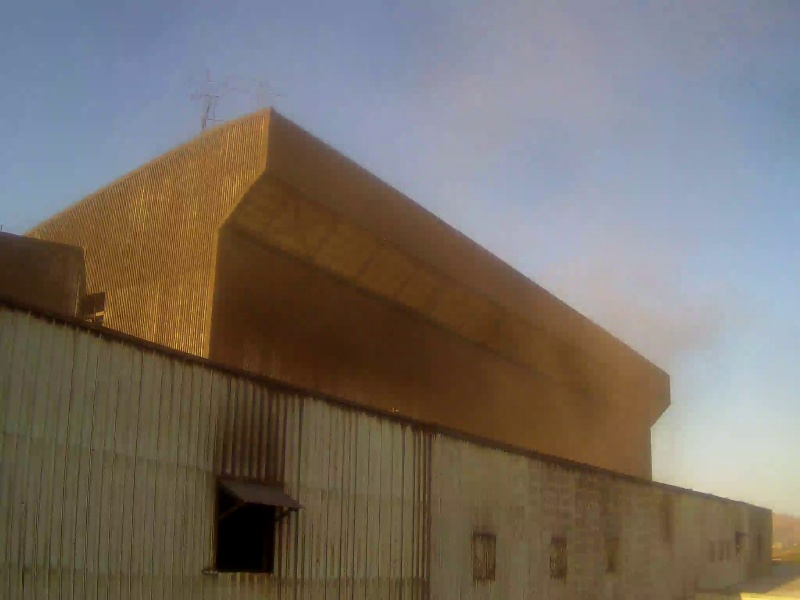pessimo: (420, 119, 723, 487)
